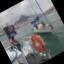fishing boat: (28, 12, 59, 40)
